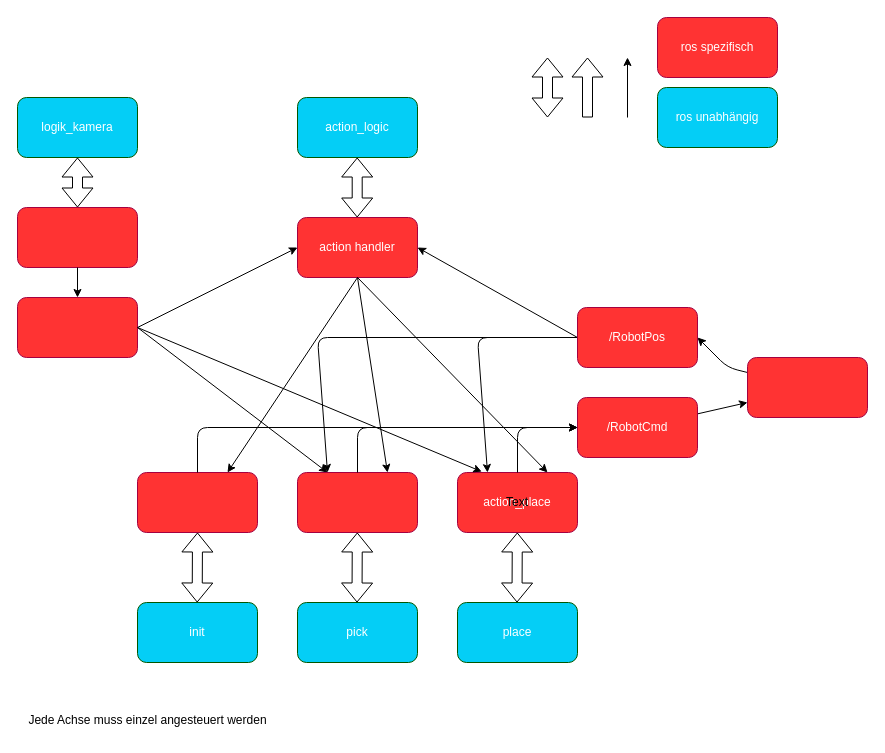
The diagram is 885 pixels wide and 753 high, and some of its shapes have lost their labels. Each missing label, with the box of its shape:
/object_data: (16, 296, 138, 358)
/SerialMapping: (746, 356, 868, 418)
action_init: (136, 472, 258, 532)
action_pick: (296, 472, 418, 532)
Kamera Node: (16, 206, 138, 268)
